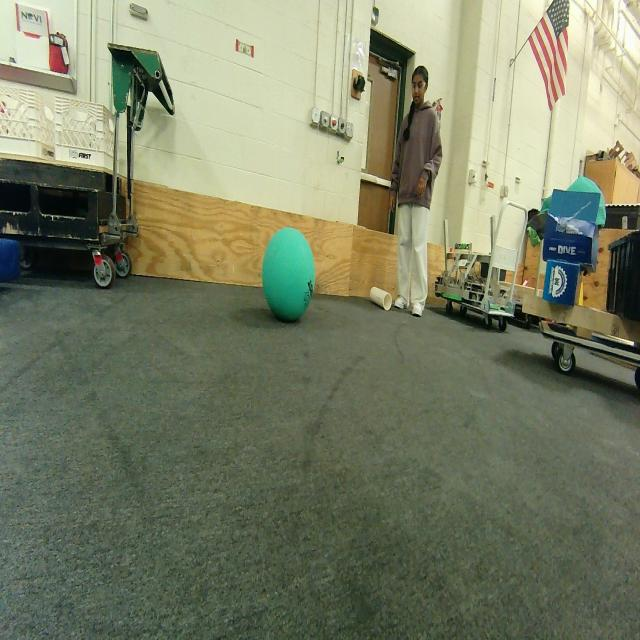algae: (262, 228, 314, 322)
